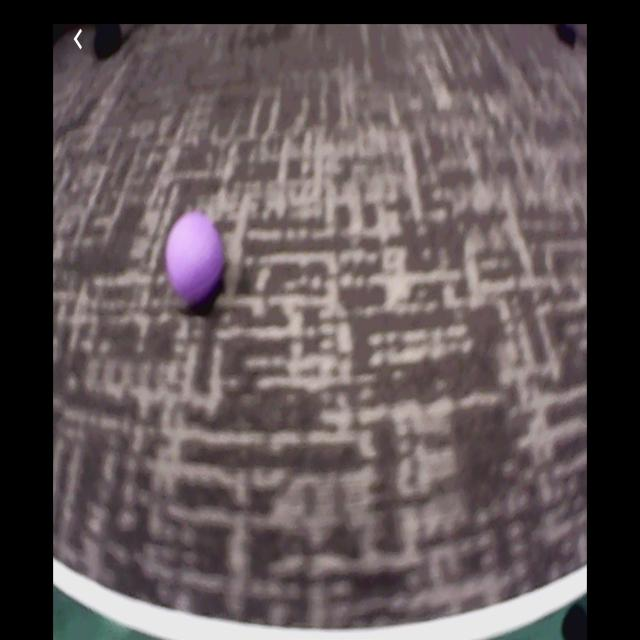ball: (164, 213, 224, 302)
